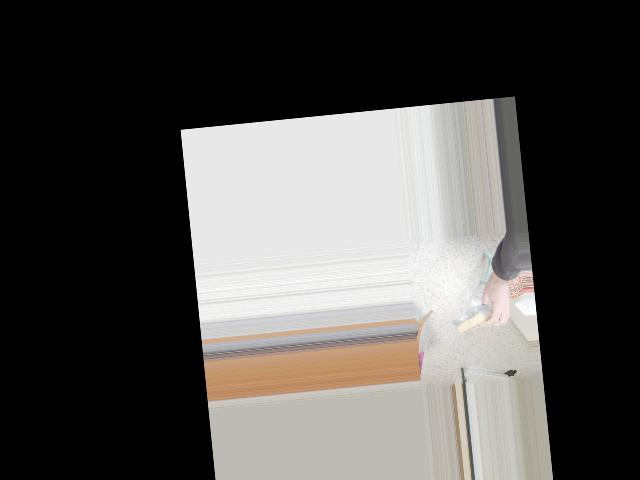cheese: (447, 297, 504, 338)
